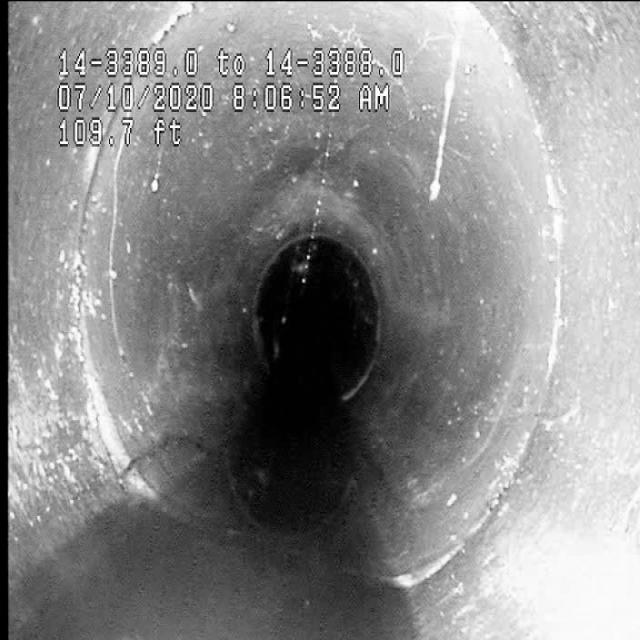Crack: (98, 176, 150, 392)
